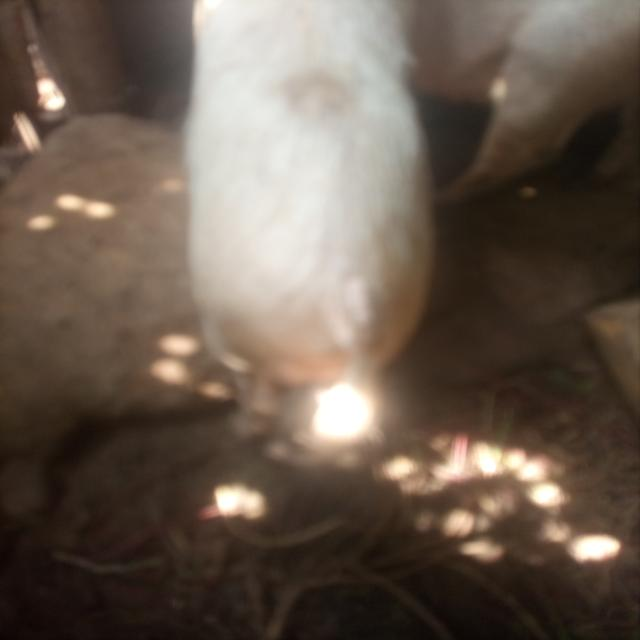pig: (76, 0, 524, 427)
